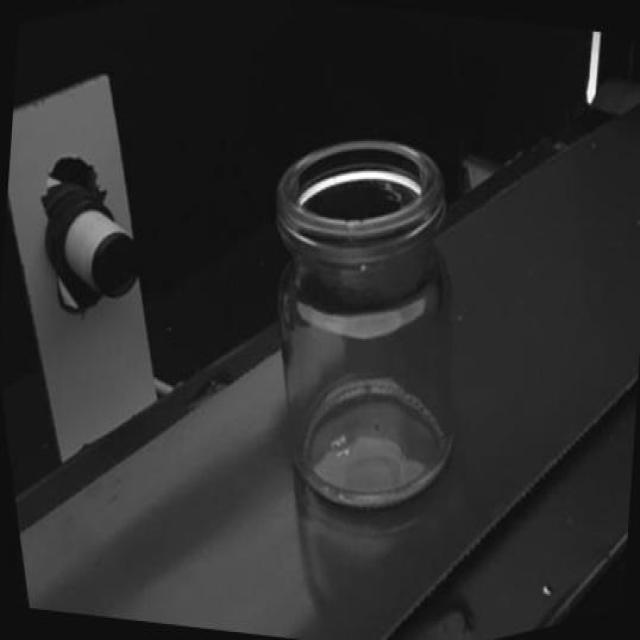defect: (339, 206, 374, 245), (350, 252, 373, 280)
glass: (224, 92, 510, 554)
